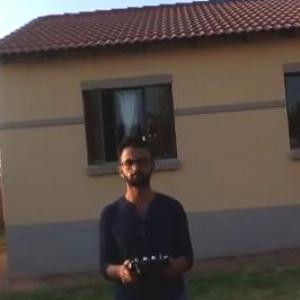follow: (97, 123, 202, 299)
